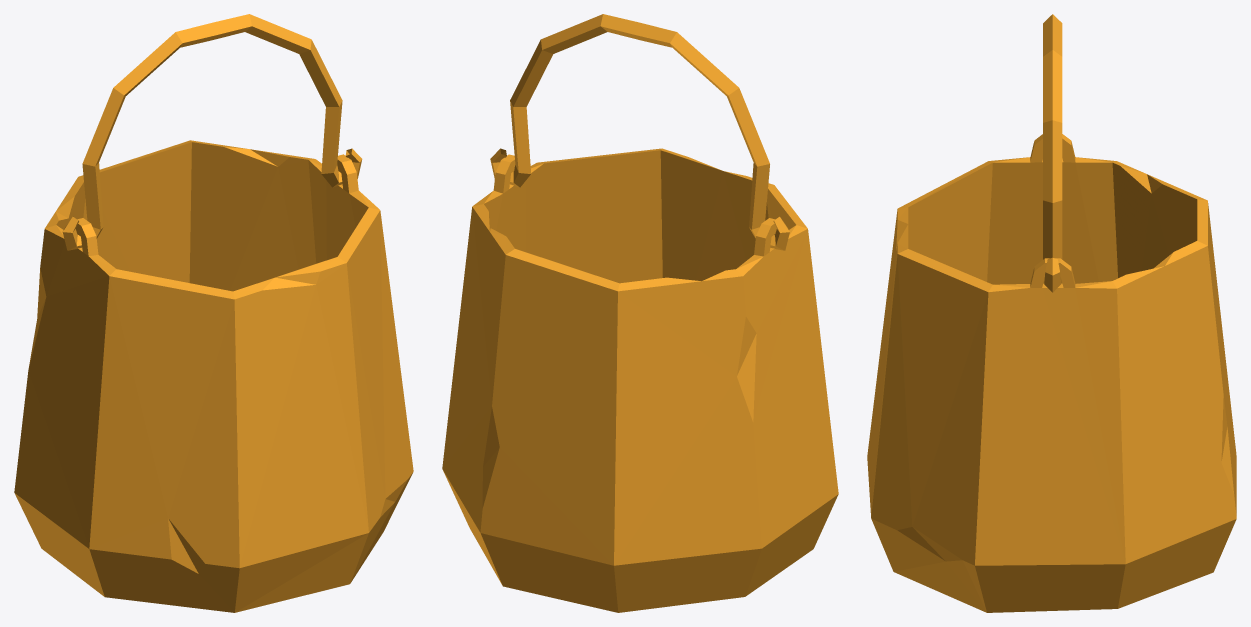
Rendered from SM_Kitchen_Kettle_B_Fantasy.fbx.
3 views of the same model, side by side, from view 1: azimuth 30°, elevation 25°; view 2: azimuth 150°, elevation 25°; view 3: azimuth 270°, elevation 25° (orthographic).
Visible parts, largest first — view 1: kitchen-kettle-base-b-fantasy, kitchen-kettle-handle-b-fantasy; view 2: kitchen-kettle-base-b-fantasy, kitchen-kettle-handle-b-fantasy; view 3: kitchen-kettle-base-b-fantasy, kitchen-kettle-handle-b-fantasy.
Part boxes in pixels (<box>): kitchen-kettle-base-b-fantasy: <box>14,140,413,612</box>; kitchen-kettle-handle-b-fantasy: <box>62,14,362,250</box>; kitchen-kettle-base-b-fantasy: <box>442,148,838,612</box>; kitchen-kettle-handle-b-fantasy: <box>490,14,789,250</box>; kitchen-kettle-base-b-fantasy: <box>867,134,1236,612</box>; kitchen-kettle-handle-b-fantasy: <box>1043,14,1062,292</box>.
Bounding box in the file's own units: 0.3977 × 0.6377 × 0.3975.
